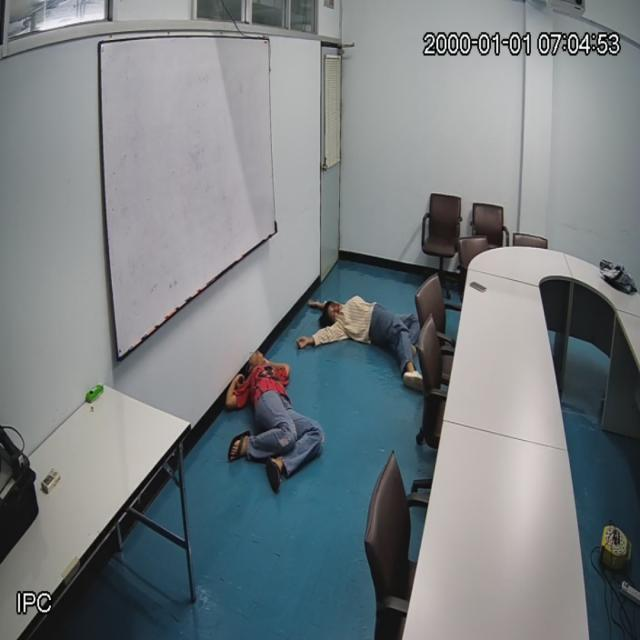fall: (227, 352, 319, 484), (310, 290, 415, 372)
